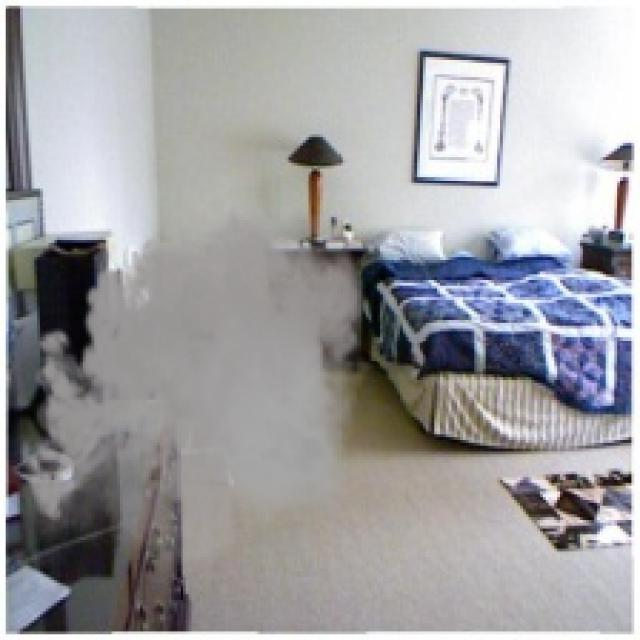smoke: (14, 183, 377, 586)
